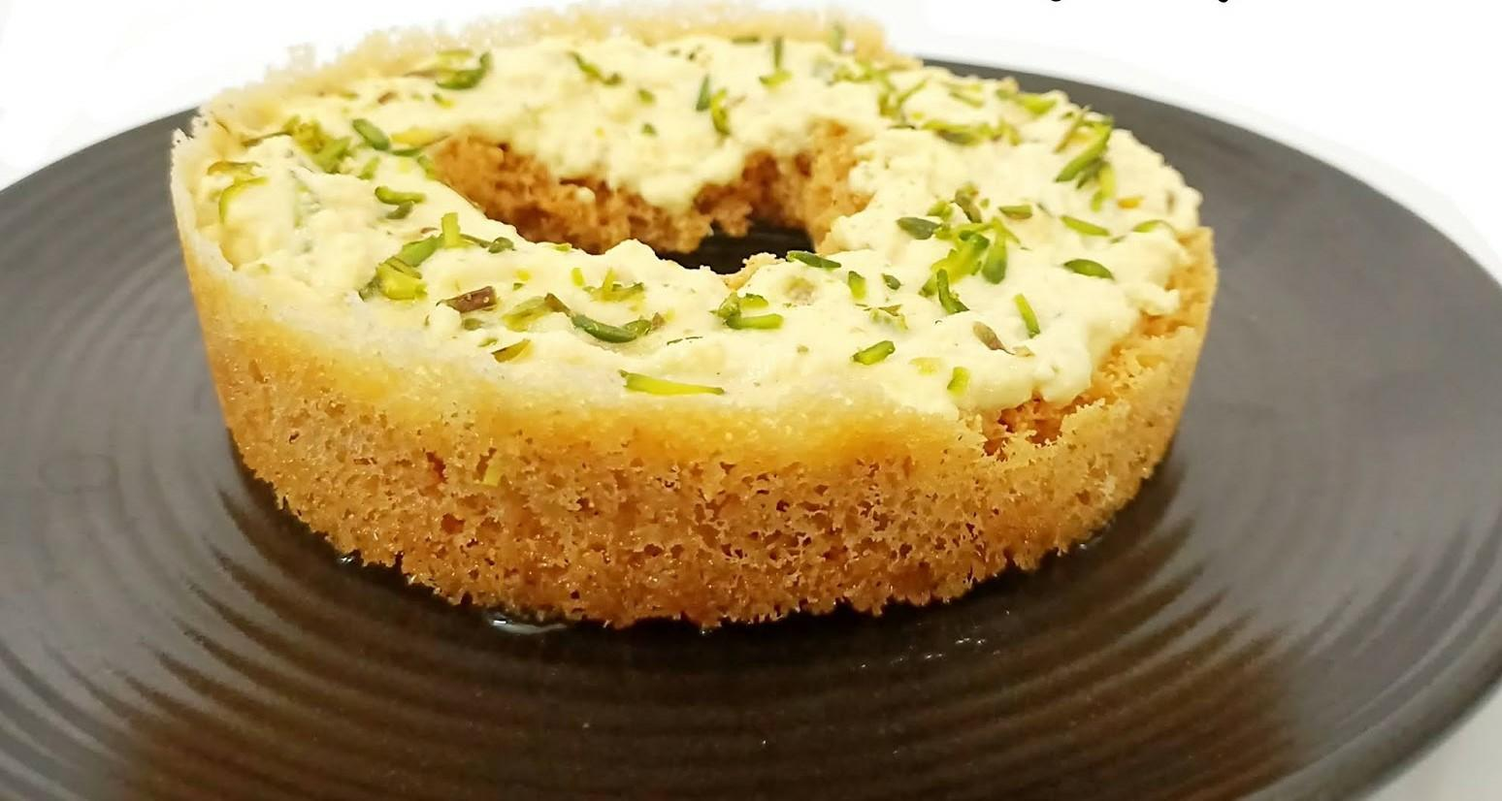Ghevar: (169, 0, 1222, 628)
